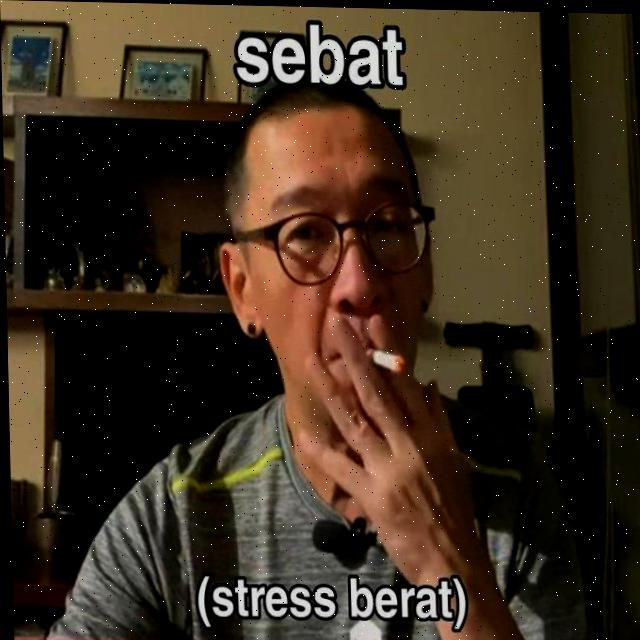cigarette: (365, 346, 403, 369)
